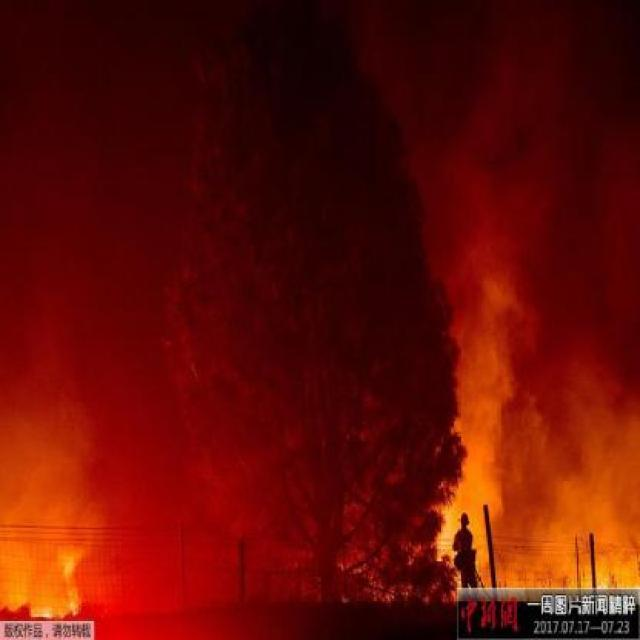Fire: (437, 500, 637, 591), (1, 475, 114, 623)
